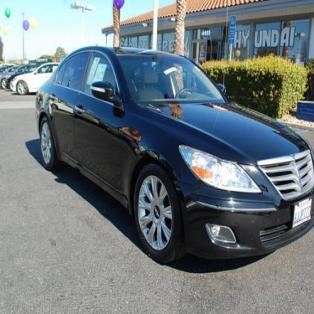Auto: (34, 48, 313, 268)
